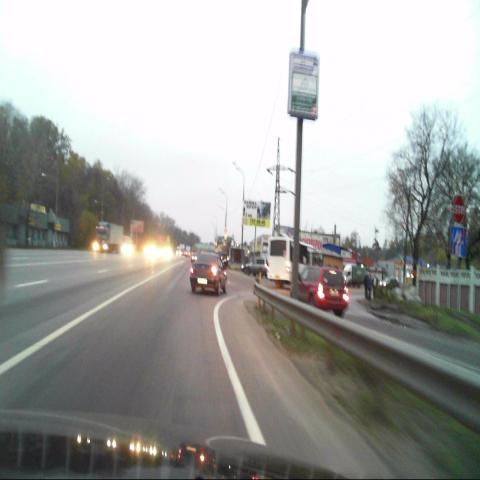5_6: (451, 225, 467, 258)
